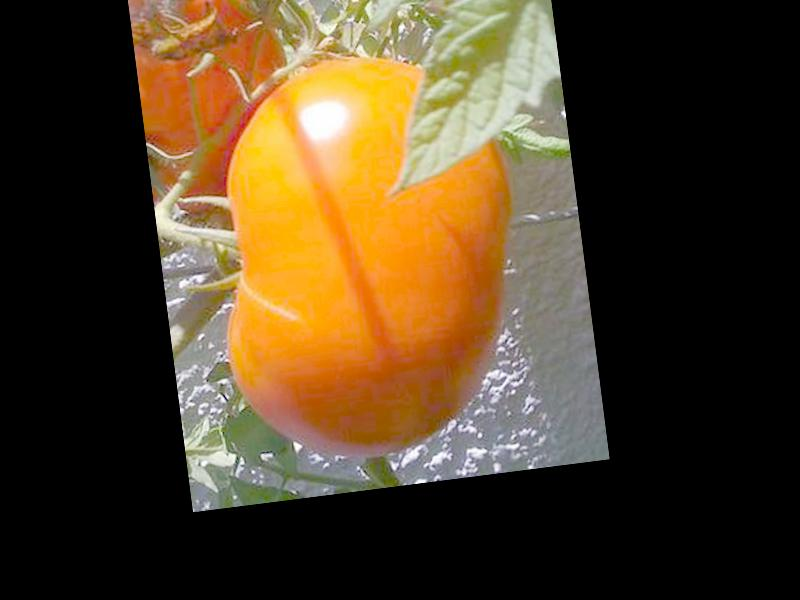Tomato: (192, 38, 540, 472)
